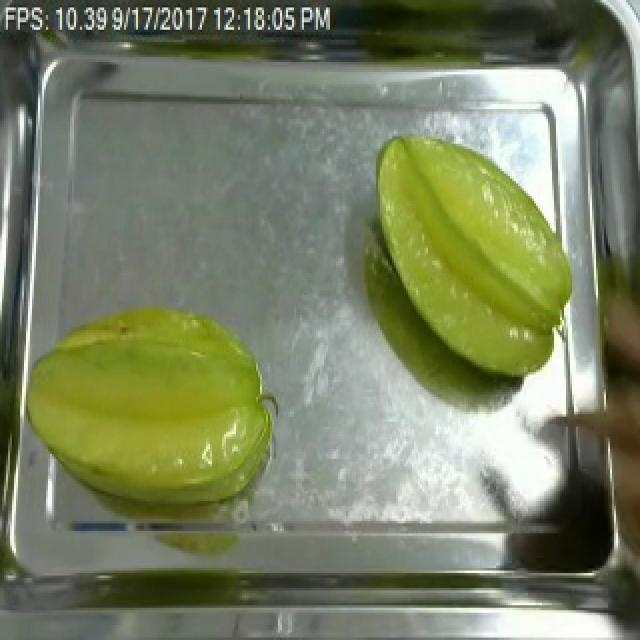fruit: (16, 295, 284, 531), (364, 126, 580, 394)
